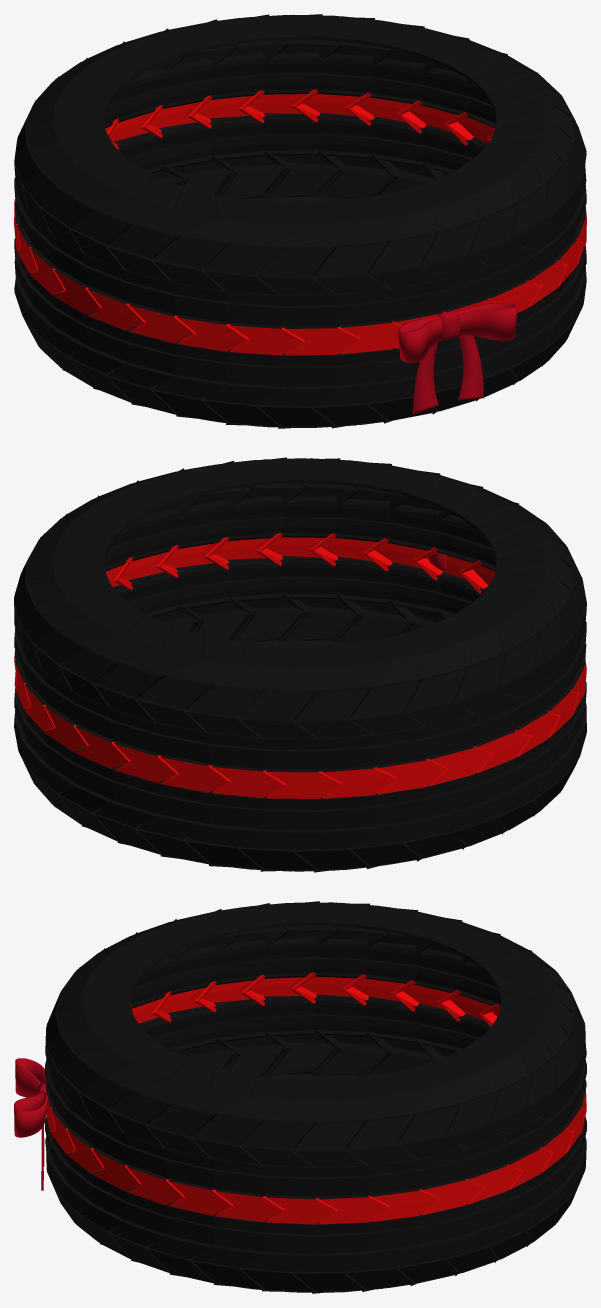
File: RedCarBox.fbx
3 views of the same model, one above another, from view 1: azimuth 30°, elevation 25°; view 2: azimuth 150°, elevation 25°; view 3: azimuth 270°, elevation 25° (orthographic). The views are drawn at different scales.
Parts seen in each view (by area): view 1: Tire.002, Bow.009; view 2: Tire.002; view 3: Tire.002, Bow.009.
Part boxes in pixels (x1,y1,x2,y2): Tire.002: (14, 14, 586, 428); Bow.009: (398, 303, 517, 414); Tire.002: (14, 457, 586, 872); Tire.002: (45, 901, 586, 1293); Bow.009: (14, 1058, 47, 1190).
Bounding box in the file's own units: 200 × 78.46 × 211.
